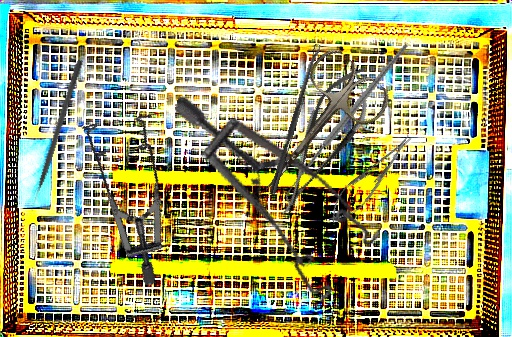Hook Surgical: (248, 41, 447, 207)
Iris Scissors: (232, 43, 397, 216)
Micro Scissor: (260, 55, 387, 228)
Needle Holder: (321, 127, 421, 231)
Pusher: (27, 58, 84, 212)
Speculum: (134, 94, 402, 313), (35, 93, 212, 289)
Surgical Spoon: (269, 43, 322, 196)
